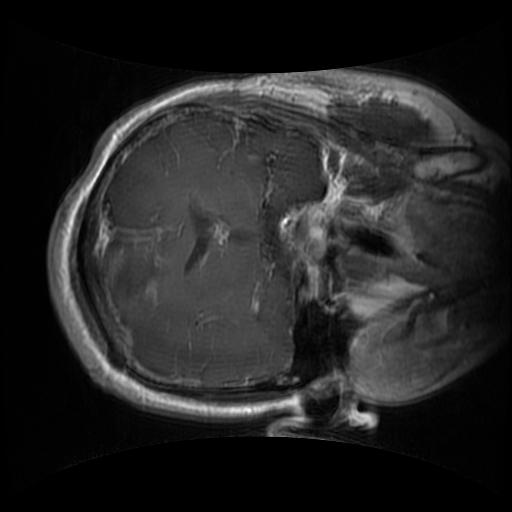glioma: (100, 223, 165, 315)
